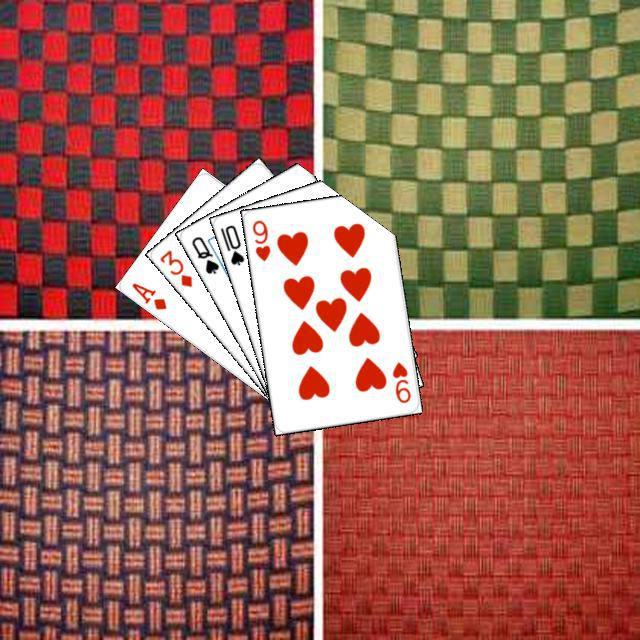10s: (215, 220, 246, 267)
3d: (155, 245, 194, 289)
9h: (247, 215, 272, 263), (387, 357, 412, 405)
Ad: (126, 277, 168, 312)
Qs: (187, 231, 221, 276)
